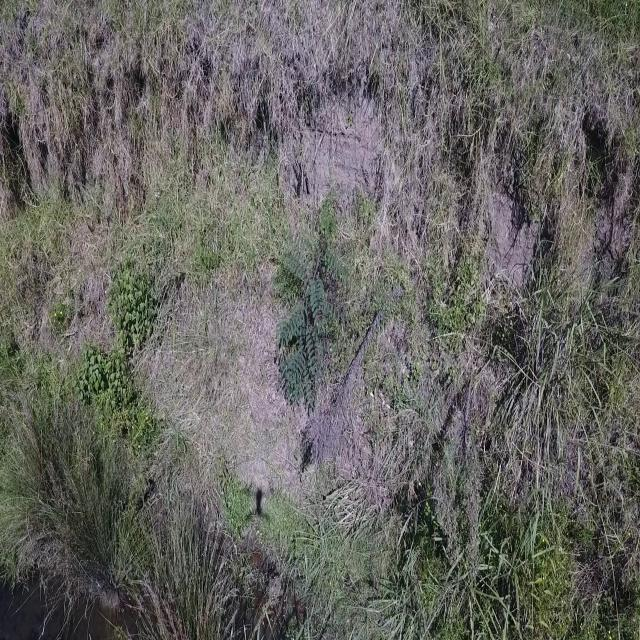Mysore-Thorn-Weed: (278, 249, 350, 415)
